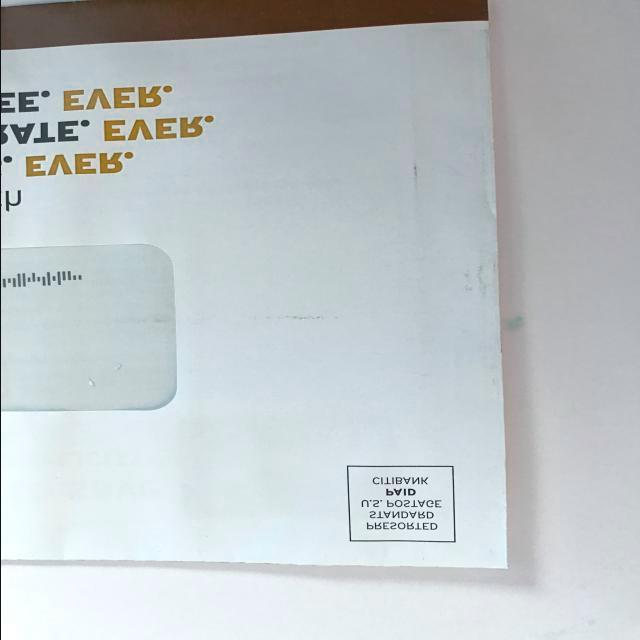paper: (0, 1, 523, 579)
